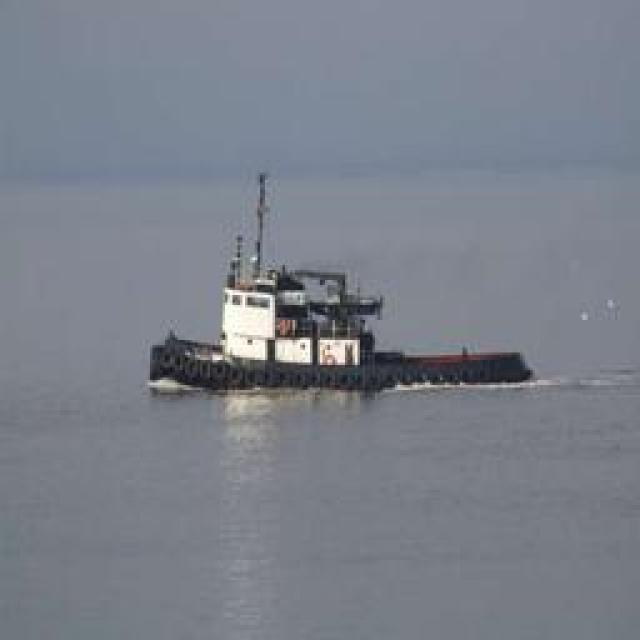CIV_Ship: (145, 178, 520, 396)
